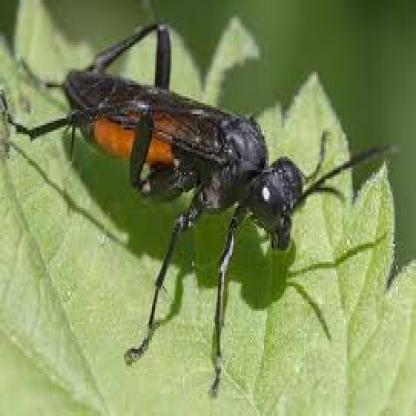sawfly: (5, 21, 396, 397)
